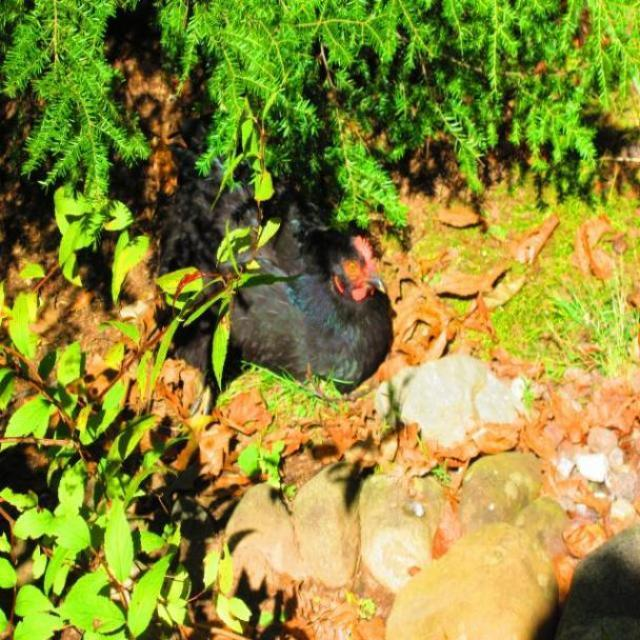Chicken: (165, 120, 393, 394)
